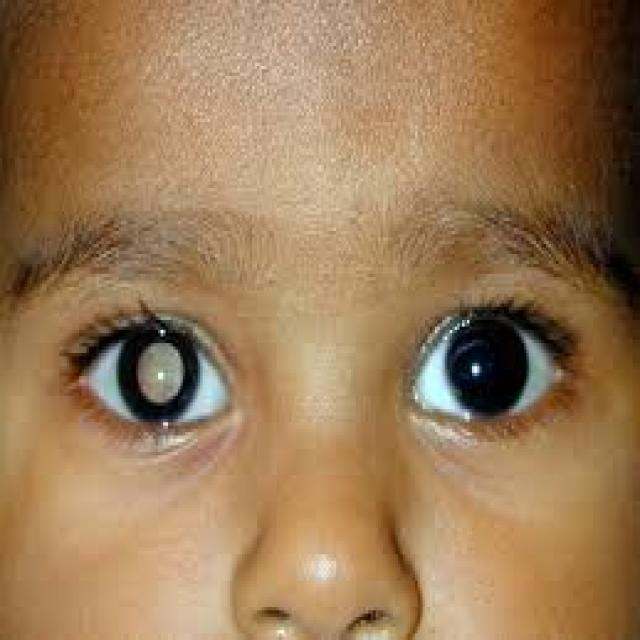reflexo-alterado: (89, 327, 241, 420)
reflexo-normal: (445, 301, 550, 406)
